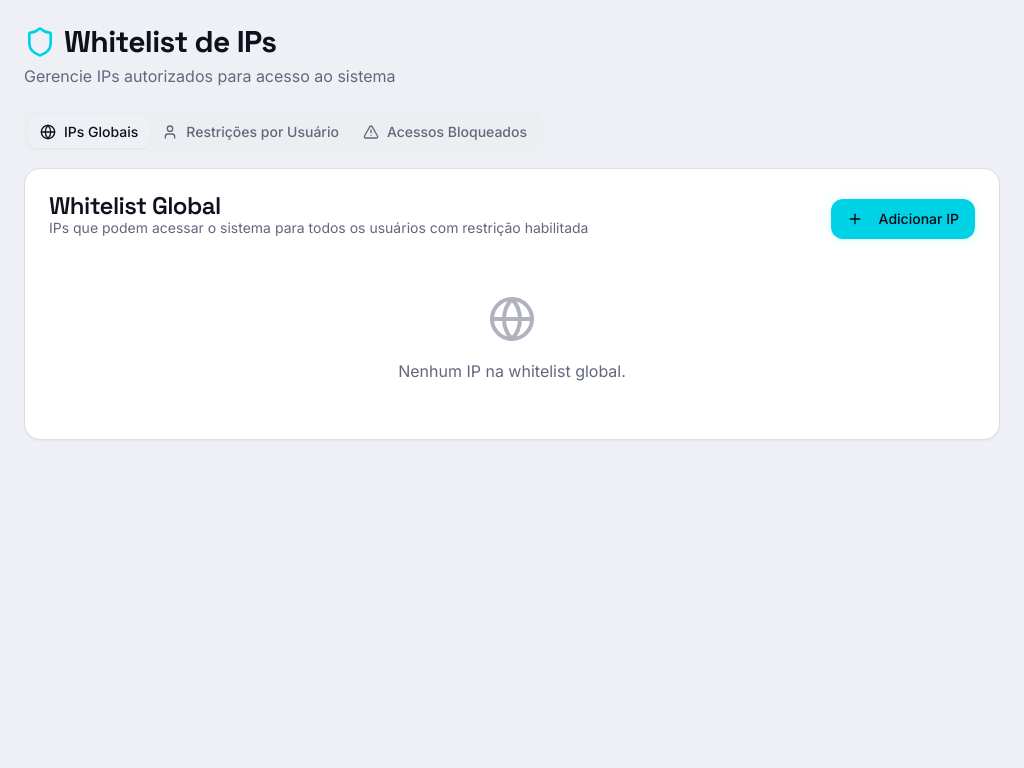
Test: IPWhitelist › grava um único IP quando o botão é clicado duas vezes antes da resposta
The width and height of the screenshot is (1024, 768).
Click the button "Adicionar IP": {"x": 903, "y": 219} [831, 199, 975, 239]
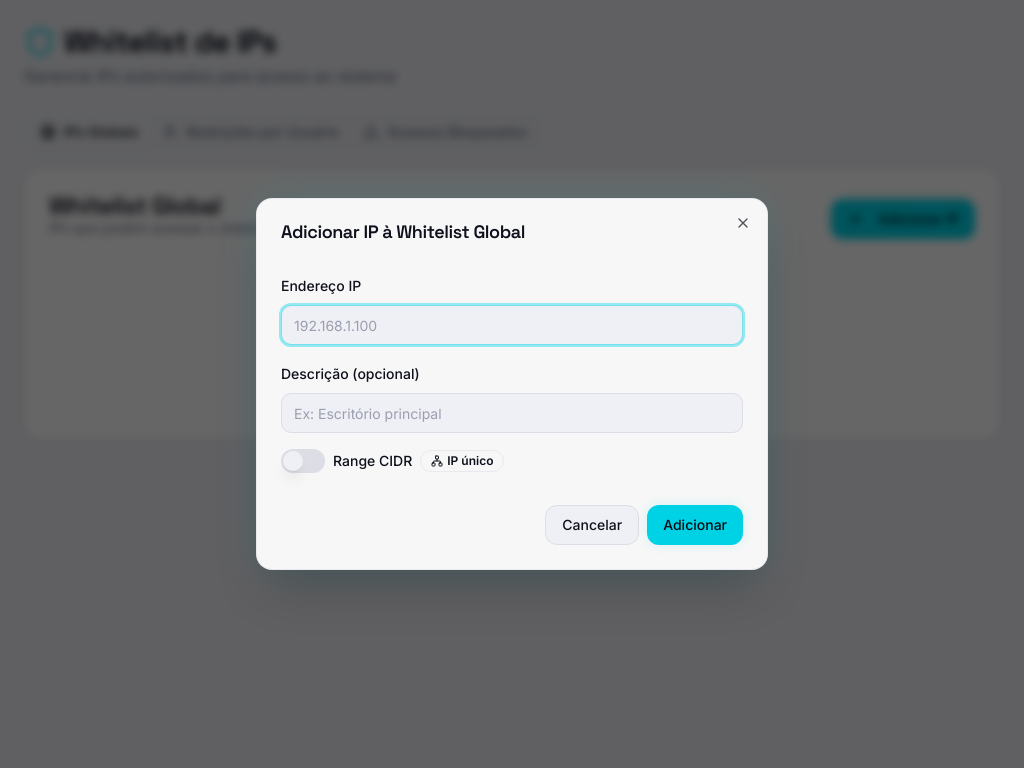
In the field with placeholder "192.168.1.100": {"x": 512, "y": 325} [281, 305, 743, 345], type "10.0.0.5"
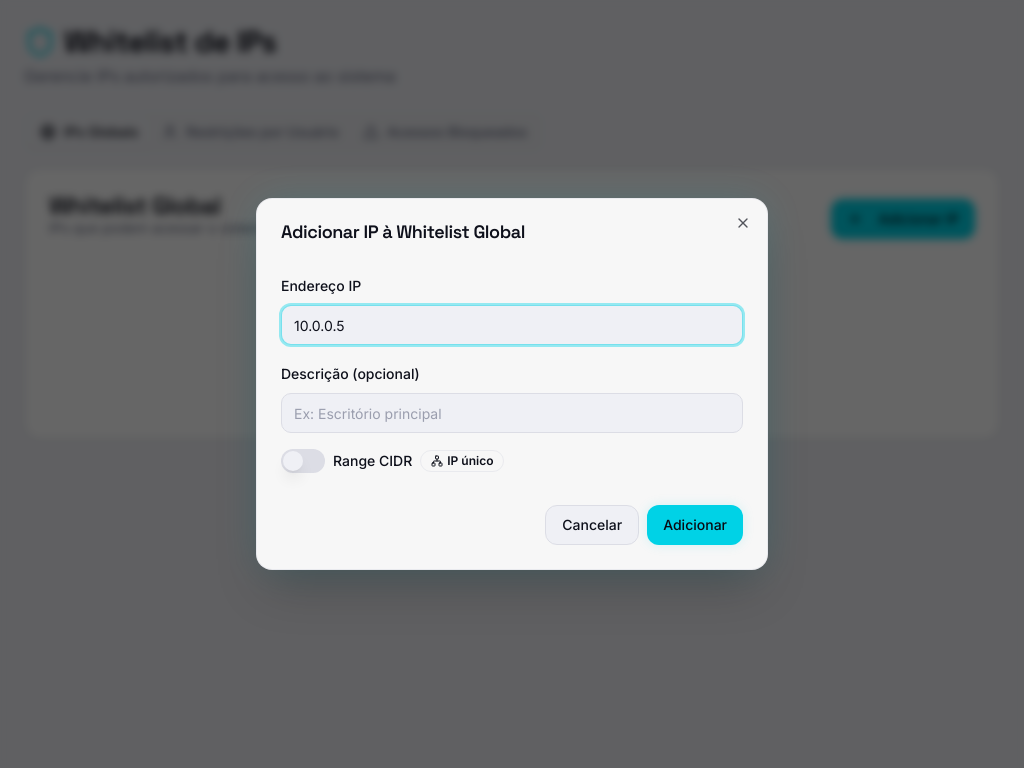
Click the button "Adicionar": {"x": 695, "y": 525} [647, 505, 743, 545]
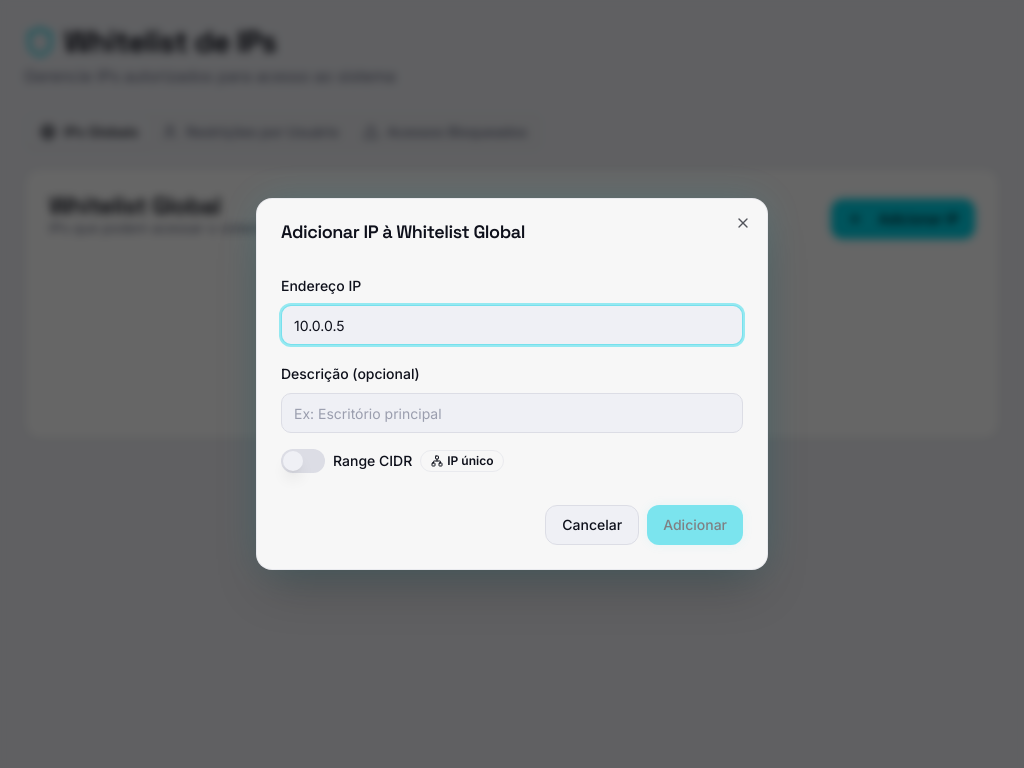
Click the button "Adicionar": {"x": 695, "y": 525} [647, 505, 743, 545]
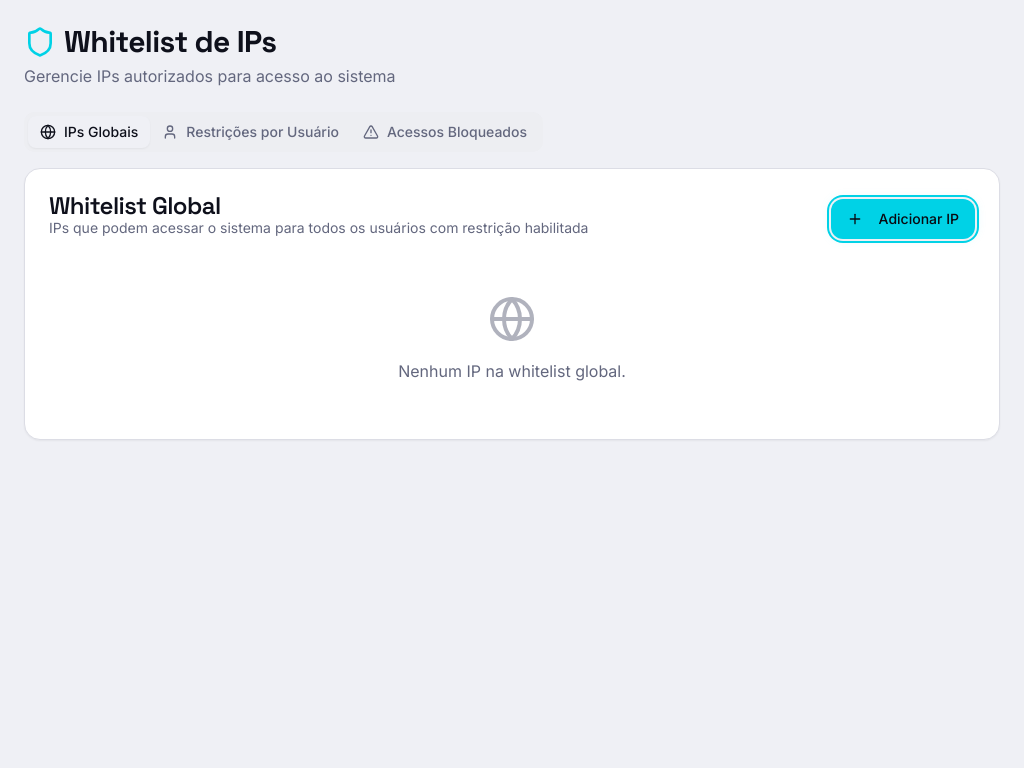
Result: the heading "Adicionar IP à Whitelist Global" is gone
